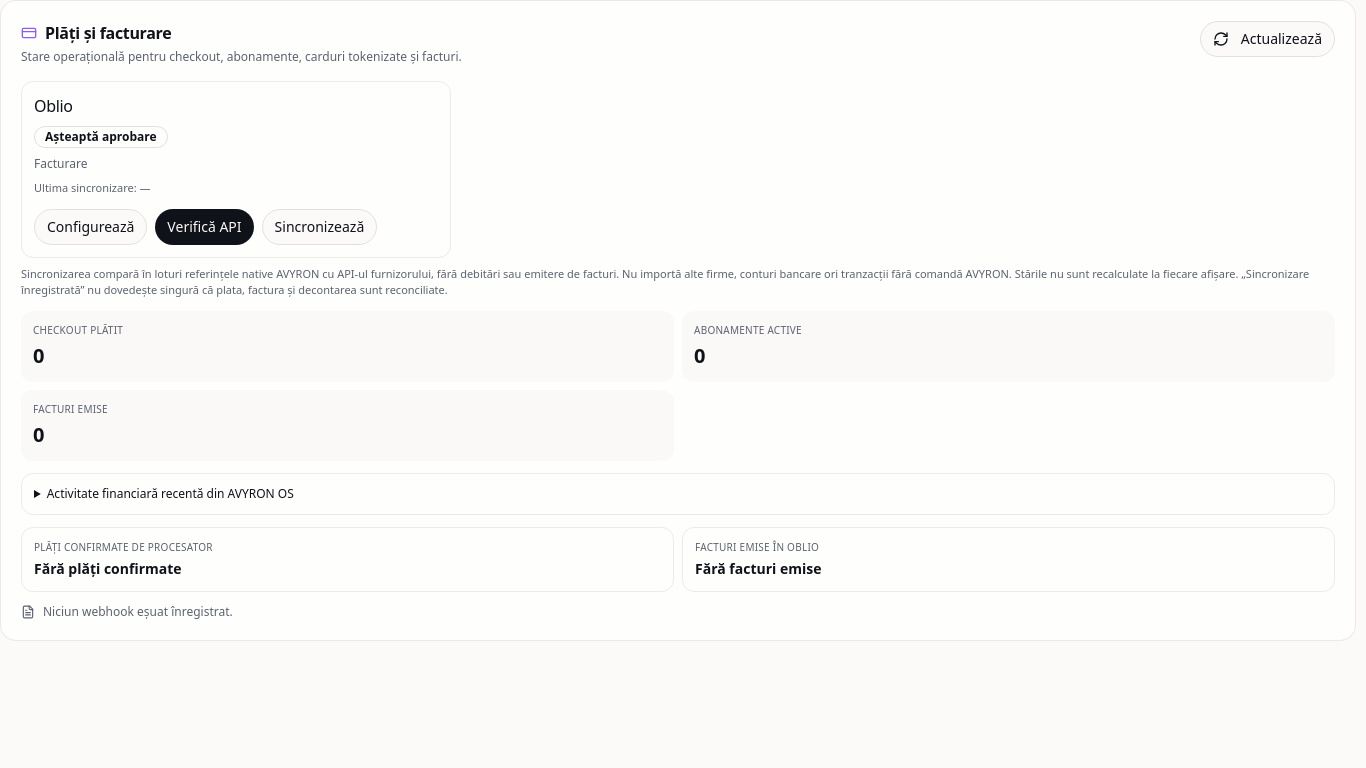
it: refreshes a failed sync and keeps the provider error visible even while approval is pending
This screenshot has width=1366, height=768.
Click the button "Sincronizează" at (319, 226), box [262,208,377,244]
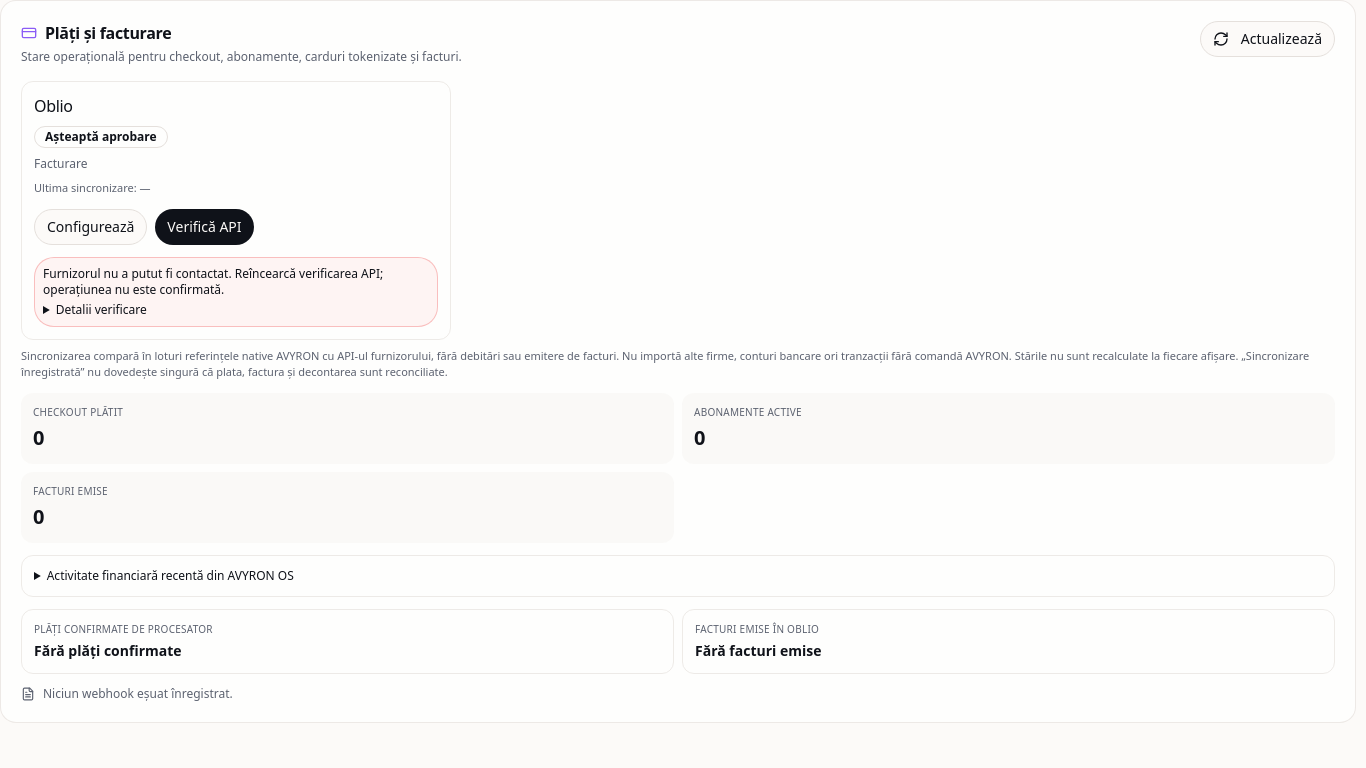
Expected: the text "Așteaptă aprobare" is shown, [34,126,168,148]
Now the message shows "Furnizorul nu a putut fi contactat", box [43,264,383,298]
Now the button "Sincronizează" is gone
